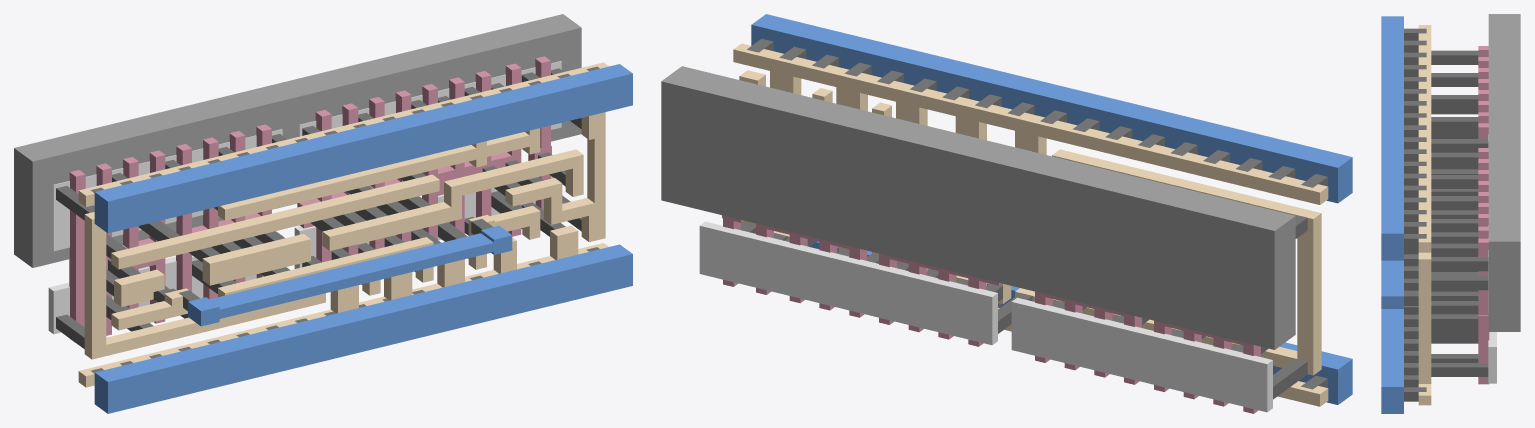
File: sky130_fd_sc_hd__mux2i_4.gds.gltf
3 views of the same model, side by side, from view 1: azimuth 30°, elevation 25°; view 2: azimuth 150°, elevation 25°; view 3: azimuth 270°, elevation 25° (orthographic). The views are drawn at different scales.
Parts seen in each view (by area): view 1: sky130_fd_sc_hd__mux2i_4_met1, sky130_fd_sc_hd__mux2i_4_li1, sky130_fd_sc_hd__mux2i_4_nwell, sky130_fd_sc_hd__mux2i_4_poly, sky130_fd_sc_hd__mux2i_4_licon, sky130_fd_sc_hd__mux2i_4_diff, sky130_fd_sc_hd__mux2i_4_mcon; view 2: sky130_fd_sc_hd__mux2i_4_nwell, sky130_fd_sc_hd__mux2i_4_diff, sky130_fd_sc_hd__mux2i_4_li1, sky130_fd_sc_hd__mux2i_4_met1, sky130_fd_sc_hd__mux2i_4_poly, sky130_fd_sc_hd__mux2i_4_mcon, sky130_fd_sc_hd__mux2i_4_licon; view 3: sky130_fd_sc_hd__mux2i_4_licon, sky130_fd_sc_hd__mux2i_4_nwell, sky130_fd_sc_hd__mux2i_4_met1, sky130_fd_sc_hd__mux2i_4_mcon, sky130_fd_sc_hd__mux2i_4_li1, sky130_fd_sc_hd__mux2i_4_poly, sky130_fd_sc_hd__mux2i_4_diff.
Boxes of the visible parts, bbox=[...] form: sky130_fd_sc_hd__mux2i_4_met1: bbox=[94, 64, 632, 413]; sky130_fd_sc_hd__mux2i_4_li1: bbox=[78, 62, 608, 387]; sky130_fd_sc_hd__mux2i_4_nwell: bbox=[14, 14, 581, 267]; sky130_fd_sc_hd__mux2i_4_poly: bbox=[69, 56, 551, 342]; sky130_fd_sc_hd__mux2i_4_licon: bbox=[56, 68, 581, 348]; sky130_fd_sc_hd__mux2i_4_diff: bbox=[48, 61, 561, 334]; sky130_fd_sc_hd__mux2i_4_mcon: bbox=[90, 66, 599, 373]; sky130_fd_sc_hd__mux2i_4_nwell: bbox=[661, 66, 1295, 349]; sky130_fd_sc_hd__mux2i_4_diff: bbox=[699, 221, 1272, 412]; sky130_fd_sc_hd__mux2i_4_li1: bbox=[733, 43, 1328, 406]; sky130_fd_sc_hd__mux2i_4_met1: bbox=[751, 14, 1352, 404]; sky130_fd_sc_hd__mux2i_4_poly: bbox=[722, 215, 1260, 413]; sky130_fd_sc_hd__mux2i_4_mcon: bbox=[747, 38, 1327, 389]; sky130_fd_sc_hd__mux2i_4_licon: bbox=[741, 88, 1307, 399]; sky130_fd_sc_hd__mux2i_4_licon: bbox=[1431, 50, 1488, 376]; sky130_fd_sc_hd__mux2i_4_nwell: bbox=[1488, 14, 1520, 331]; sky130_fd_sc_hd__mux2i_4_met1: bbox=[1381, 16, 1403, 413]; sky130_fd_sc_hd__mux2i_4_mcon: bbox=[1404, 28, 1426, 401]; sky130_fd_sc_hd__mux2i_4_li1: bbox=[1418, 25, 1431, 405]; sky130_fd_sc_hd__mux2i_4_poly: bbox=[1478, 46, 1489, 384]; sky130_fd_sc_hd__mux2i_4_diff: bbox=[1488, 134, 1496, 383].
Bounding box in the file's own units: 8.66 × 3.2 × 2.24.
